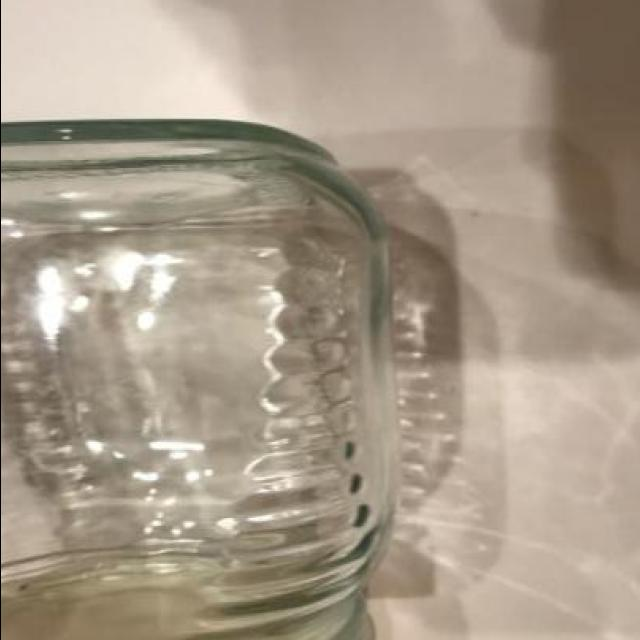kaca: (1, 119, 387, 640)
